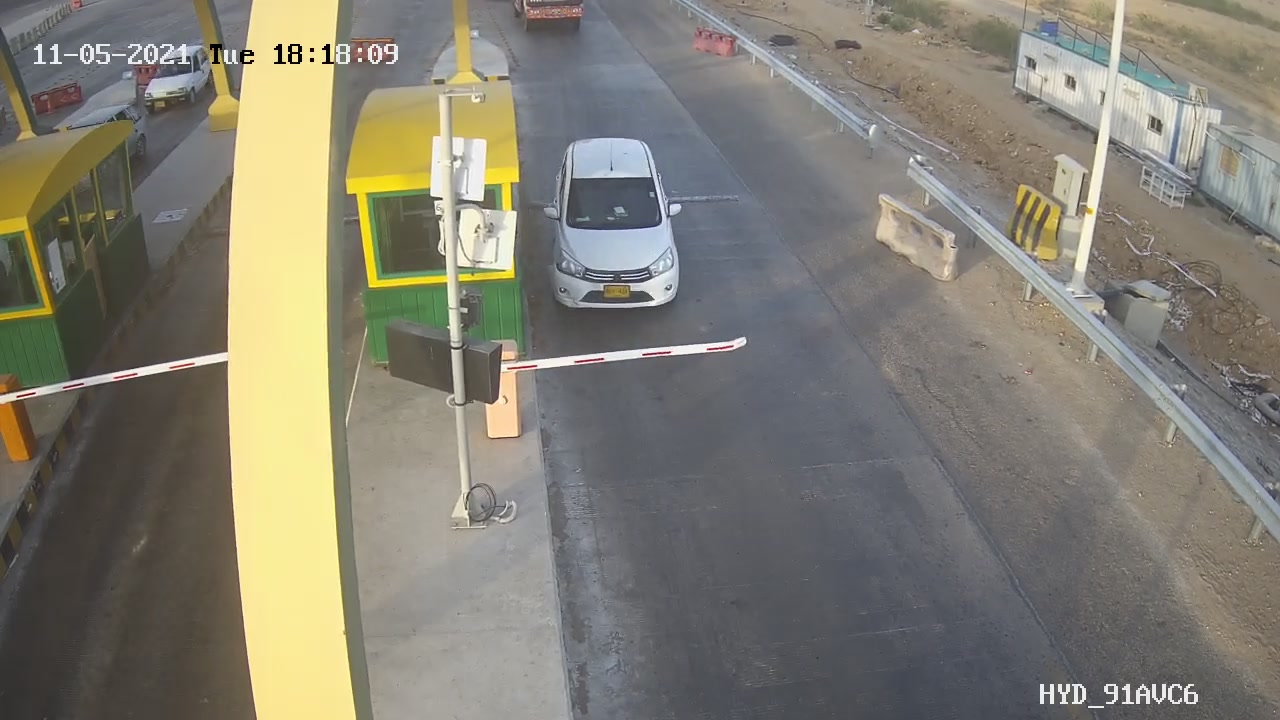F1: (530, 133, 692, 323)
